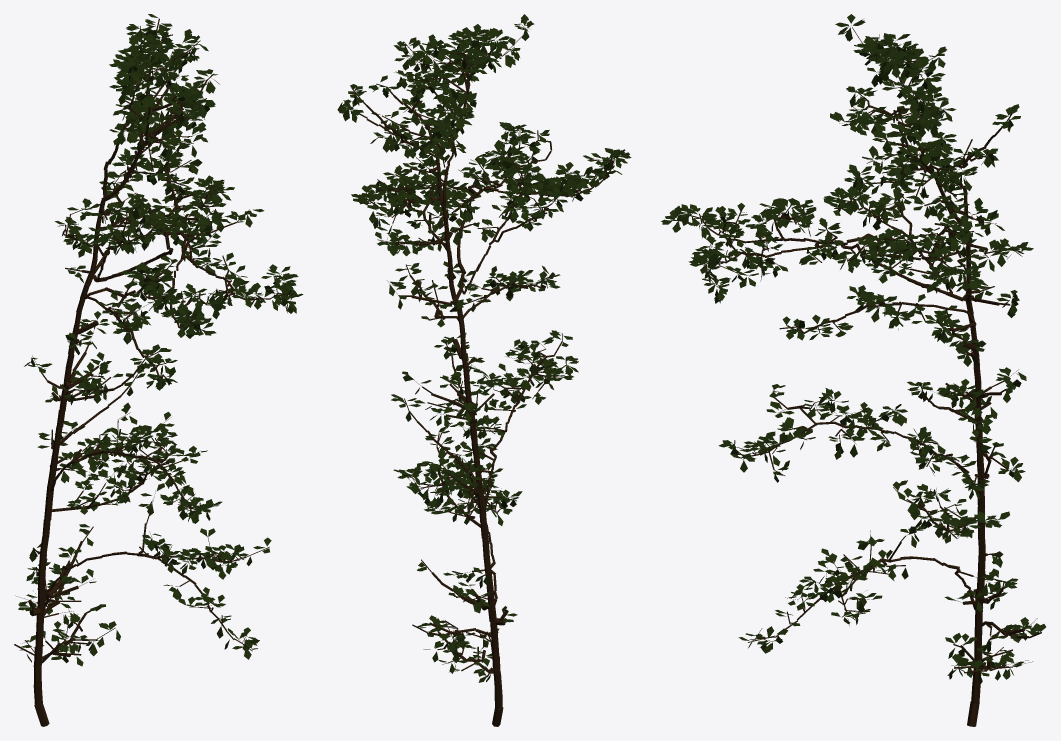
The model's file is 2022_tree_278.obj.
3 renders of one model, left to right at view 1: azimuth 30°, elevation 25°; view 2: azimuth 150°, elevation 25°; view 3: azimuth 270°, elevation 25°, orthographic. The views are drawn at different scales.
Parts seen in each view (by area): view 1: Leaves, TrunkAndBranches; view 2: Leaves, TrunkAndBranches; view 3: Leaves, TrunkAndBranches.
Boxes of the visible parts, x1,y1,x2,y2 form: Leaves: [18, 14, 303, 666]; TrunkAndBranches: [14, 18, 292, 726]; Leaves: [337, 14, 631, 682]; TrunkAndBranches: [343, 23, 618, 726]; Leaves: [661, 14, 1045, 683]; TrunkAndBranches: [671, 25, 1041, 726].
Bounding box in the file's own units: 4.77 × 16.29 × 7.85.
